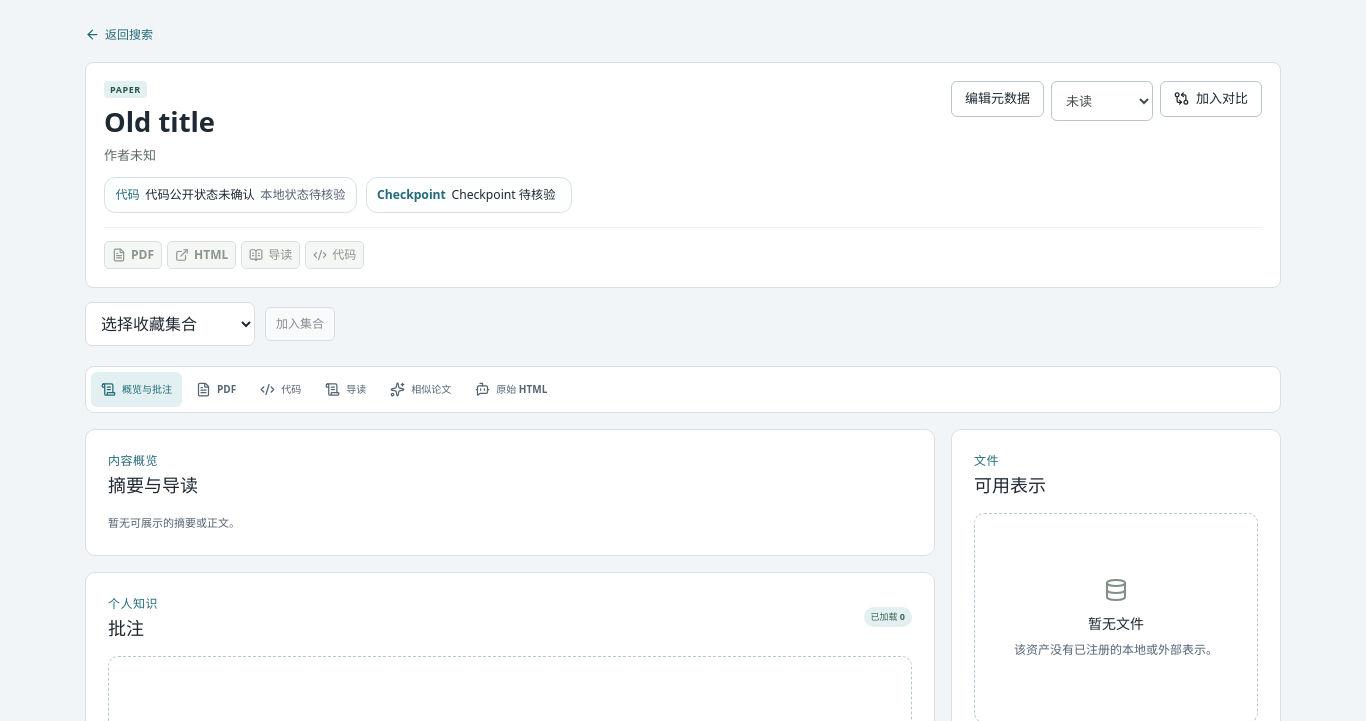
Test: paper metadata entry › opens the editor from paper detail and shows the saved title after closing
Click the button "编辑元数据": coordinates (998, 98) left=951, top=80, right=1044, bottom=116
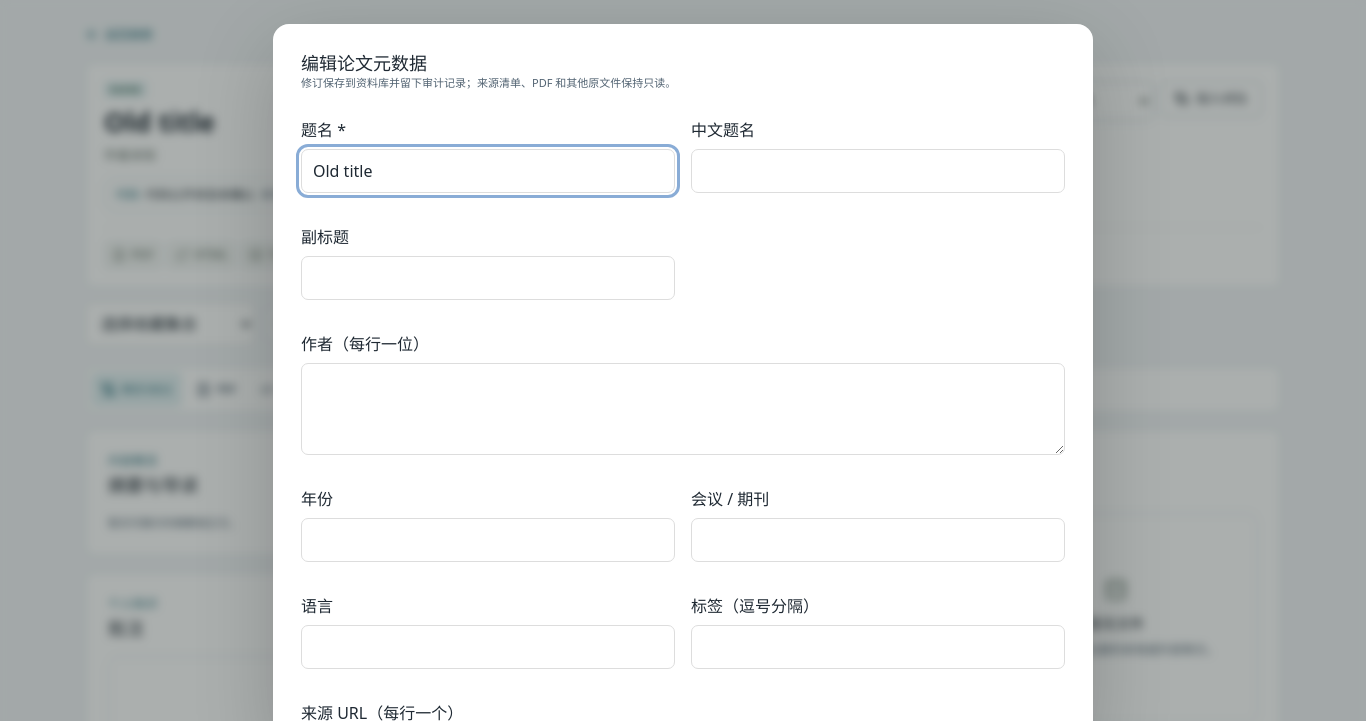
Expected: the text "修订保存到资料库并留下审计记录；来源清单、PDF 和其他原文件保持只读。" is shown, left=301, top=74, right=676, bottom=90
Replace the text in the field labelled "题名 *" with "Correct title": coordinates (488, 171) left=301, top=149, right=675, bottom=193
(page scrolled)
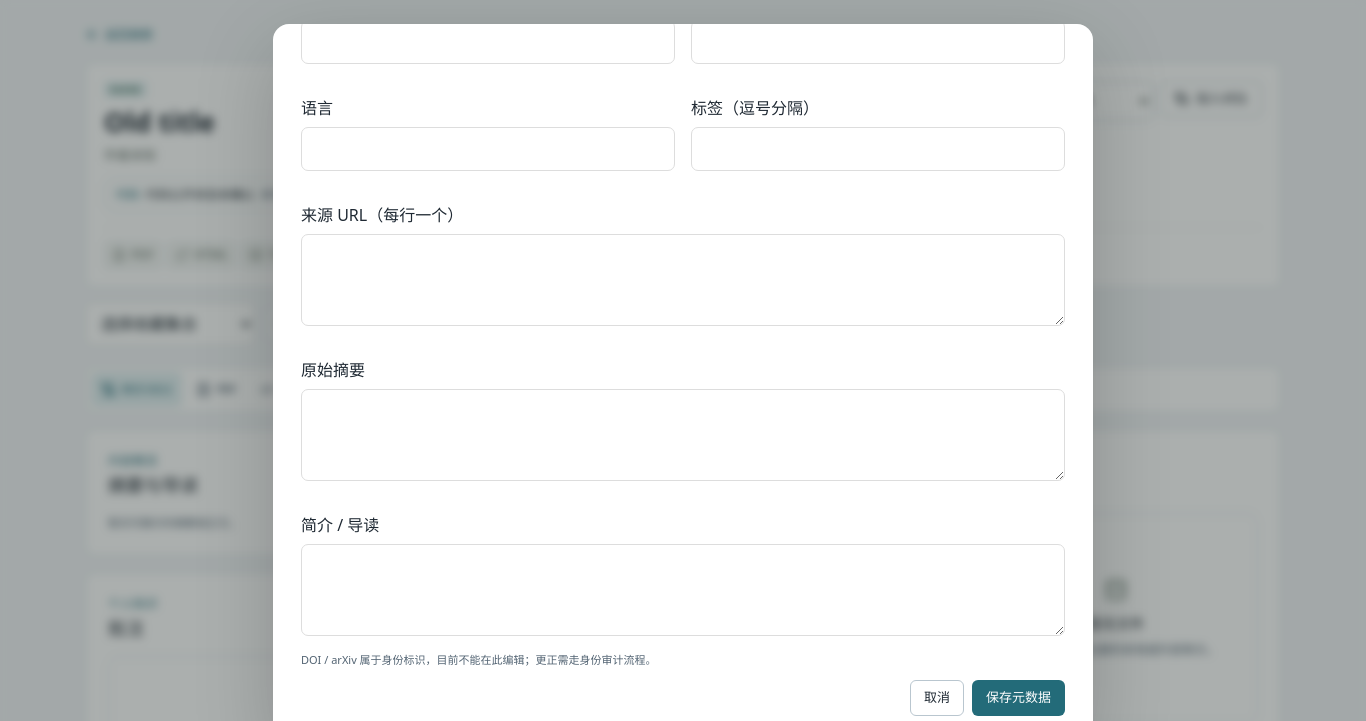
Click the button "保存元数据": coordinates (1018, 698) left=972, top=680, right=1065, bottom=716
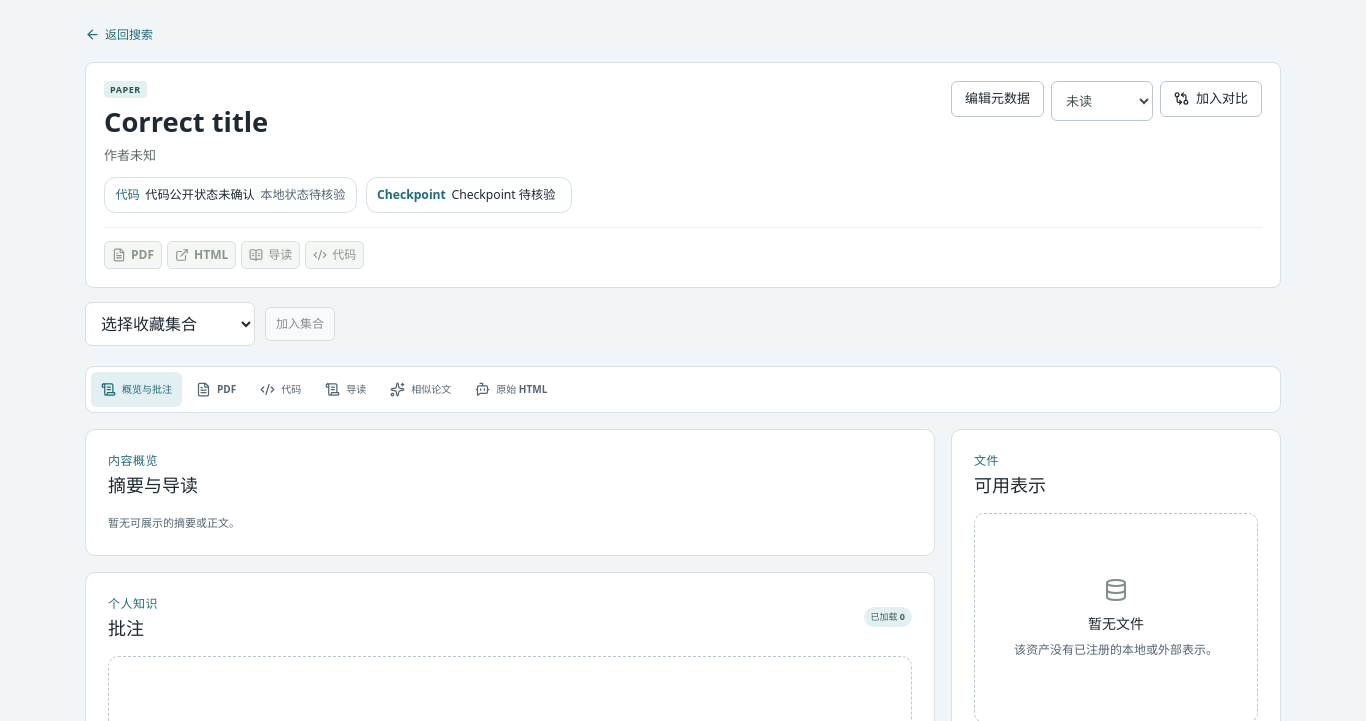
Expected: the heading "Correct title" is shown, left=104, top=103, right=268, bottom=140
